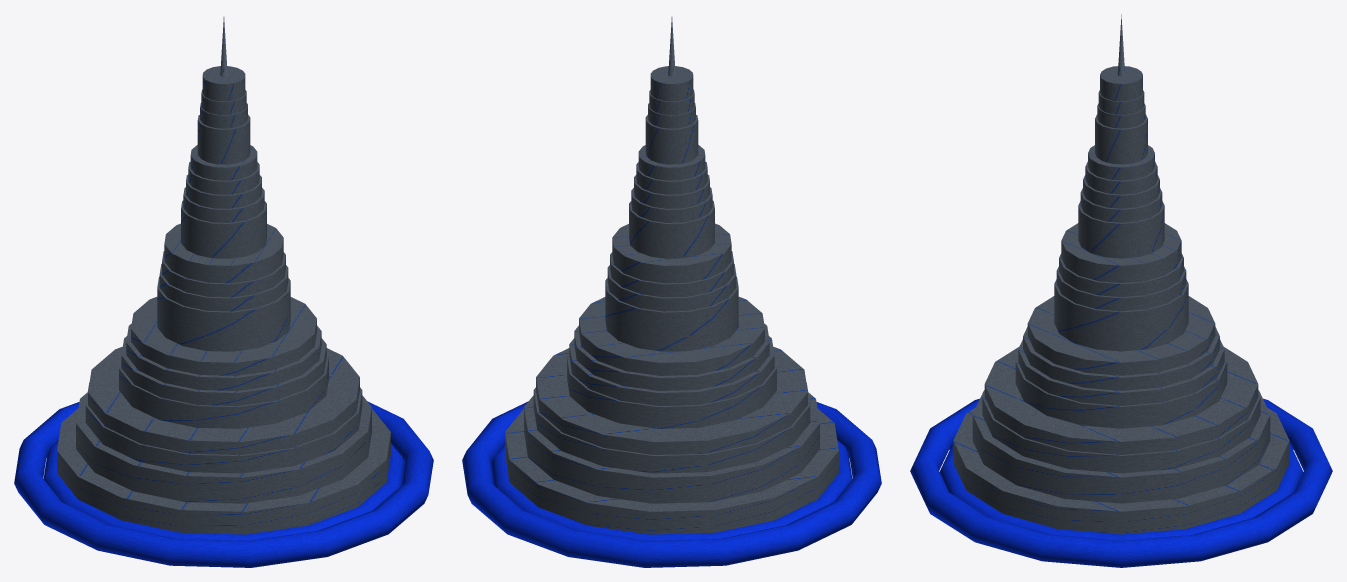
File: model-axial-revolve-03.gltf
3 renders of one model, left to right at view 1: azimuth 30°, elevation 25°; view 2: azimuth 150°, elevation 25°; view 3: azimuth 270°, elevation 25°, orthographic.
Parts seen in each view (by area): view 1: seal-ring-1, stage-a-1, stage-a-4, stage-a-2, stage-b-4, stage-c-1, stage-a-3, stage-b-1, seal-ring-2, stage-c-4, stage-b-2, stage-b-3 (+11 smaller); view 2: seal-ring-1, stage-a-1, stage-a-4, stage-a-2, stage-b-4, stage-c-1, stage-a-3, stage-b-1, seal-ring-2, stage-c-4, stage-b-2, stage-b-3 (+11 smaller); view 3: seal-ring-1, stage-a-1, stage-a-4, stage-a-2, stage-b-4, stage-c-1, stage-a-3, stage-b-1, seal-ring-2, stage-c-4, stage-b-2, stage-b-3 (+11 smaller).
Boxes of the visible parts, x1,y1,x2,y2 form: seal-ring-1: [14, 401, 433, 567]; stage-a-1: [57, 408, 390, 534]; stage-a-4: [88, 346, 359, 454]; stage-a-2: [76, 392, 371, 503]; stage-b-4: [131, 297, 316, 375]; stage-c-1: [157, 276, 290, 351]; stage-a-3: [85, 382, 362, 473]; stage-b-1: [119, 351, 328, 428]; seal-ring-2: [43, 440, 404, 540]; stage-c-4: [164, 223, 283, 283]; stage-b-2: [121, 336, 326, 405]; stage-b-3: [126, 323, 321, 390]; seal-ring-1: [462, 401, 881, 567]; stage-a-1: [505, 408, 838, 534]; stage-a-4: [536, 346, 807, 454]; stage-a-2: [524, 392, 819, 503]; stage-b-4: [579, 297, 764, 375]; stage-c-1: [605, 276, 738, 351]; stage-a-3: [533, 382, 810, 473]; stage-b-1: [567, 351, 776, 428]; seal-ring-2: [491, 440, 852, 540]; stage-c-4: [612, 223, 731, 283]; stage-b-2: [569, 336, 774, 405]; stage-b-3: [574, 323, 769, 390]; seal-ring-1: [910, 398, 1332, 567]; stage-a-1: [953, 407, 1289, 534]; stage-a-4: [984, 346, 1258, 454]; stage-a-2: [972, 390, 1270, 503]; stage-b-4: [1027, 296, 1215, 375]; stage-c-1: [1054, 279, 1188, 351]; stage-a-3: [982, 392, 1260, 473]; stage-b-1: [1015, 357, 1227, 428]; seal-ring-2: [939, 443, 1303, 540]; stage-c-4: [1061, 223, 1181, 283]; stage-b-2: [1018, 339, 1224, 405]; stage-b-3: [1023, 327, 1219, 390].
Bounding box in the file's own units: 88 × 108 × 88.
2 materials, 2 textured.
